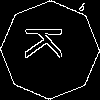K: (25, 25, 71, 60)
